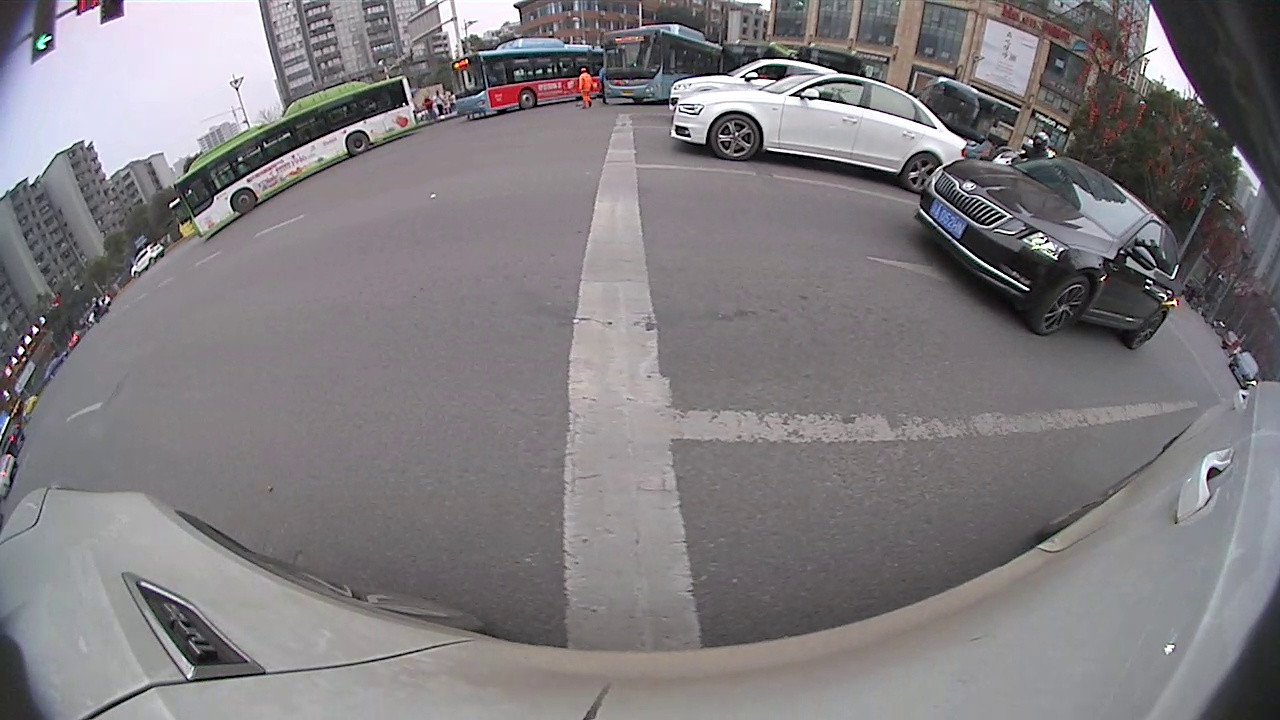bus: (171, 73, 420, 244), (450, 37, 606, 118), (603, 22, 727, 103)
car: (914, 155, 1184, 350), (668, 68, 971, 195), (668, 57, 840, 114), (128, 240, 167, 280)
front: (1030, 274, 1096, 339), (706, 110, 766, 167), (229, 187, 258, 216), (519, 86, 538, 110)
person: (581, 67, 592, 107)
rear: (901, 150, 946, 194), (1127, 309, 1167, 353), (344, 130, 373, 157)
